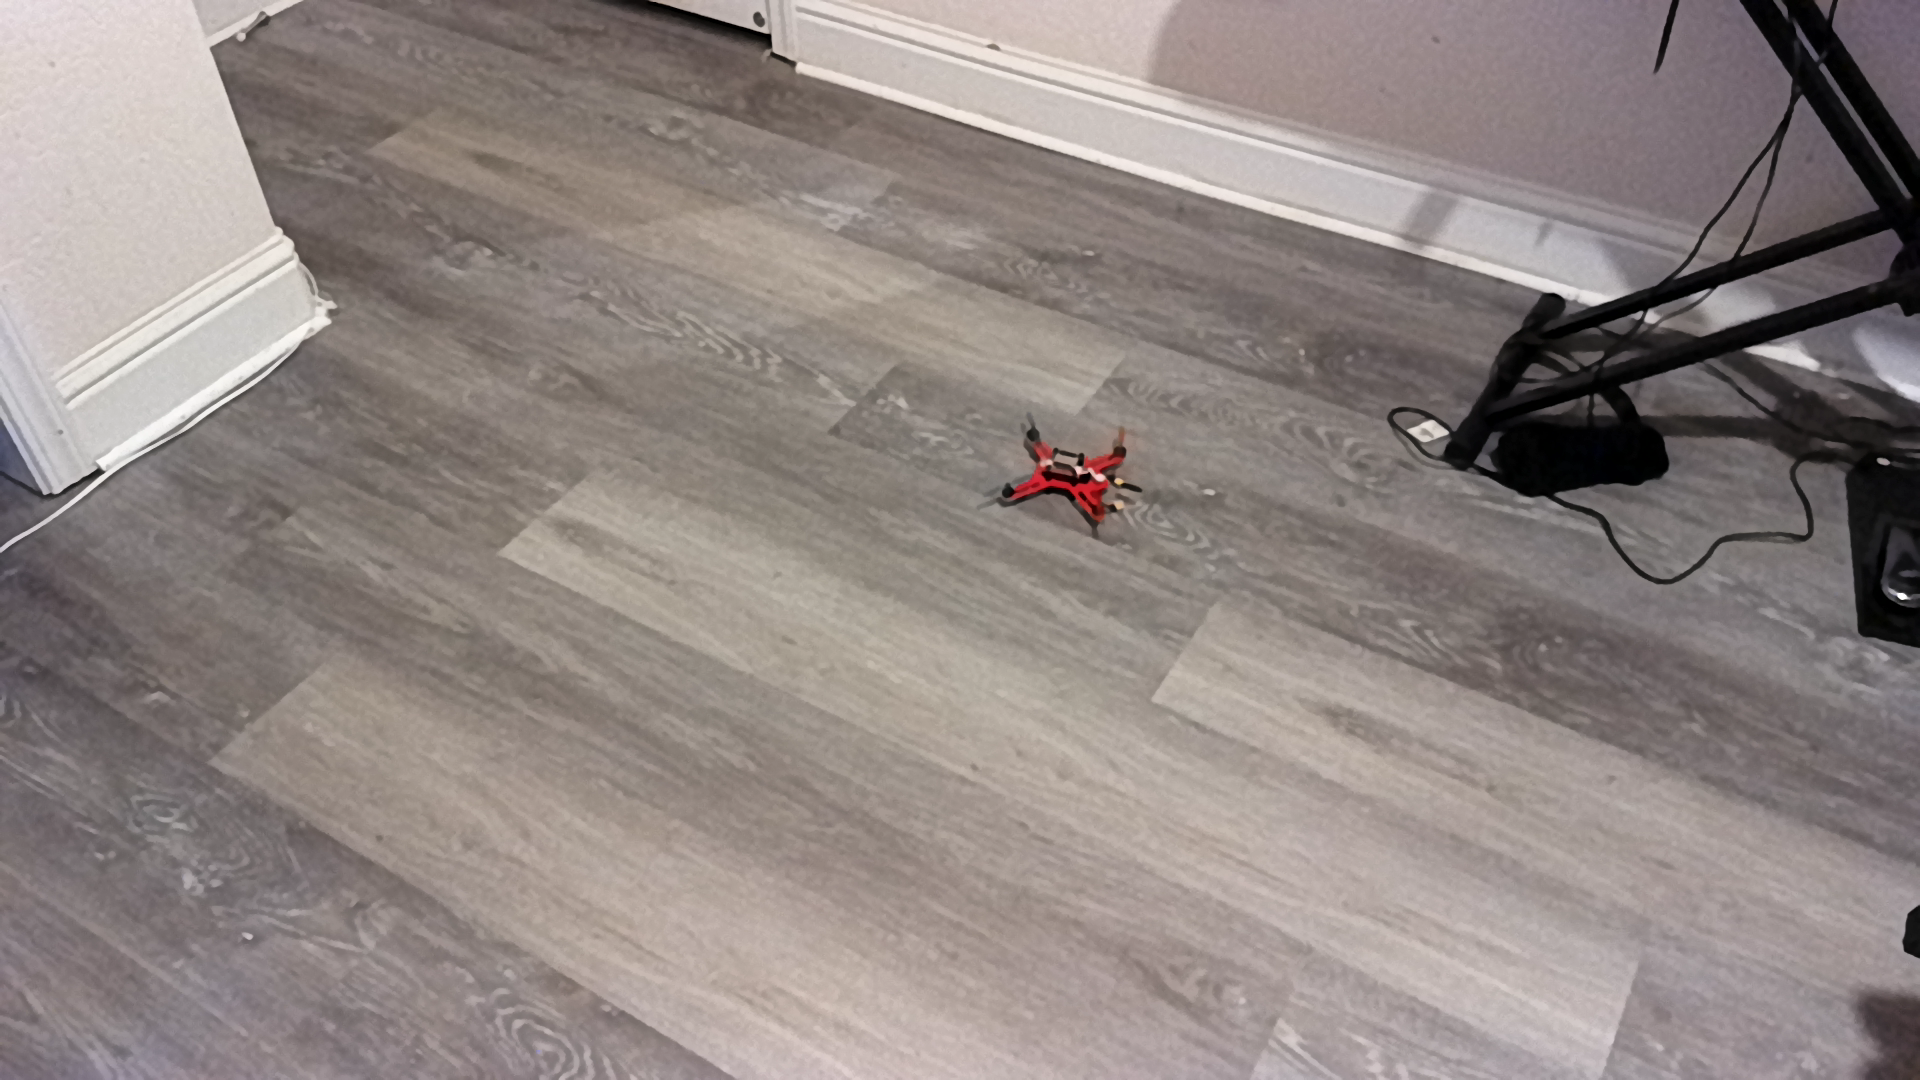drone: (981, 415, 1163, 553)
